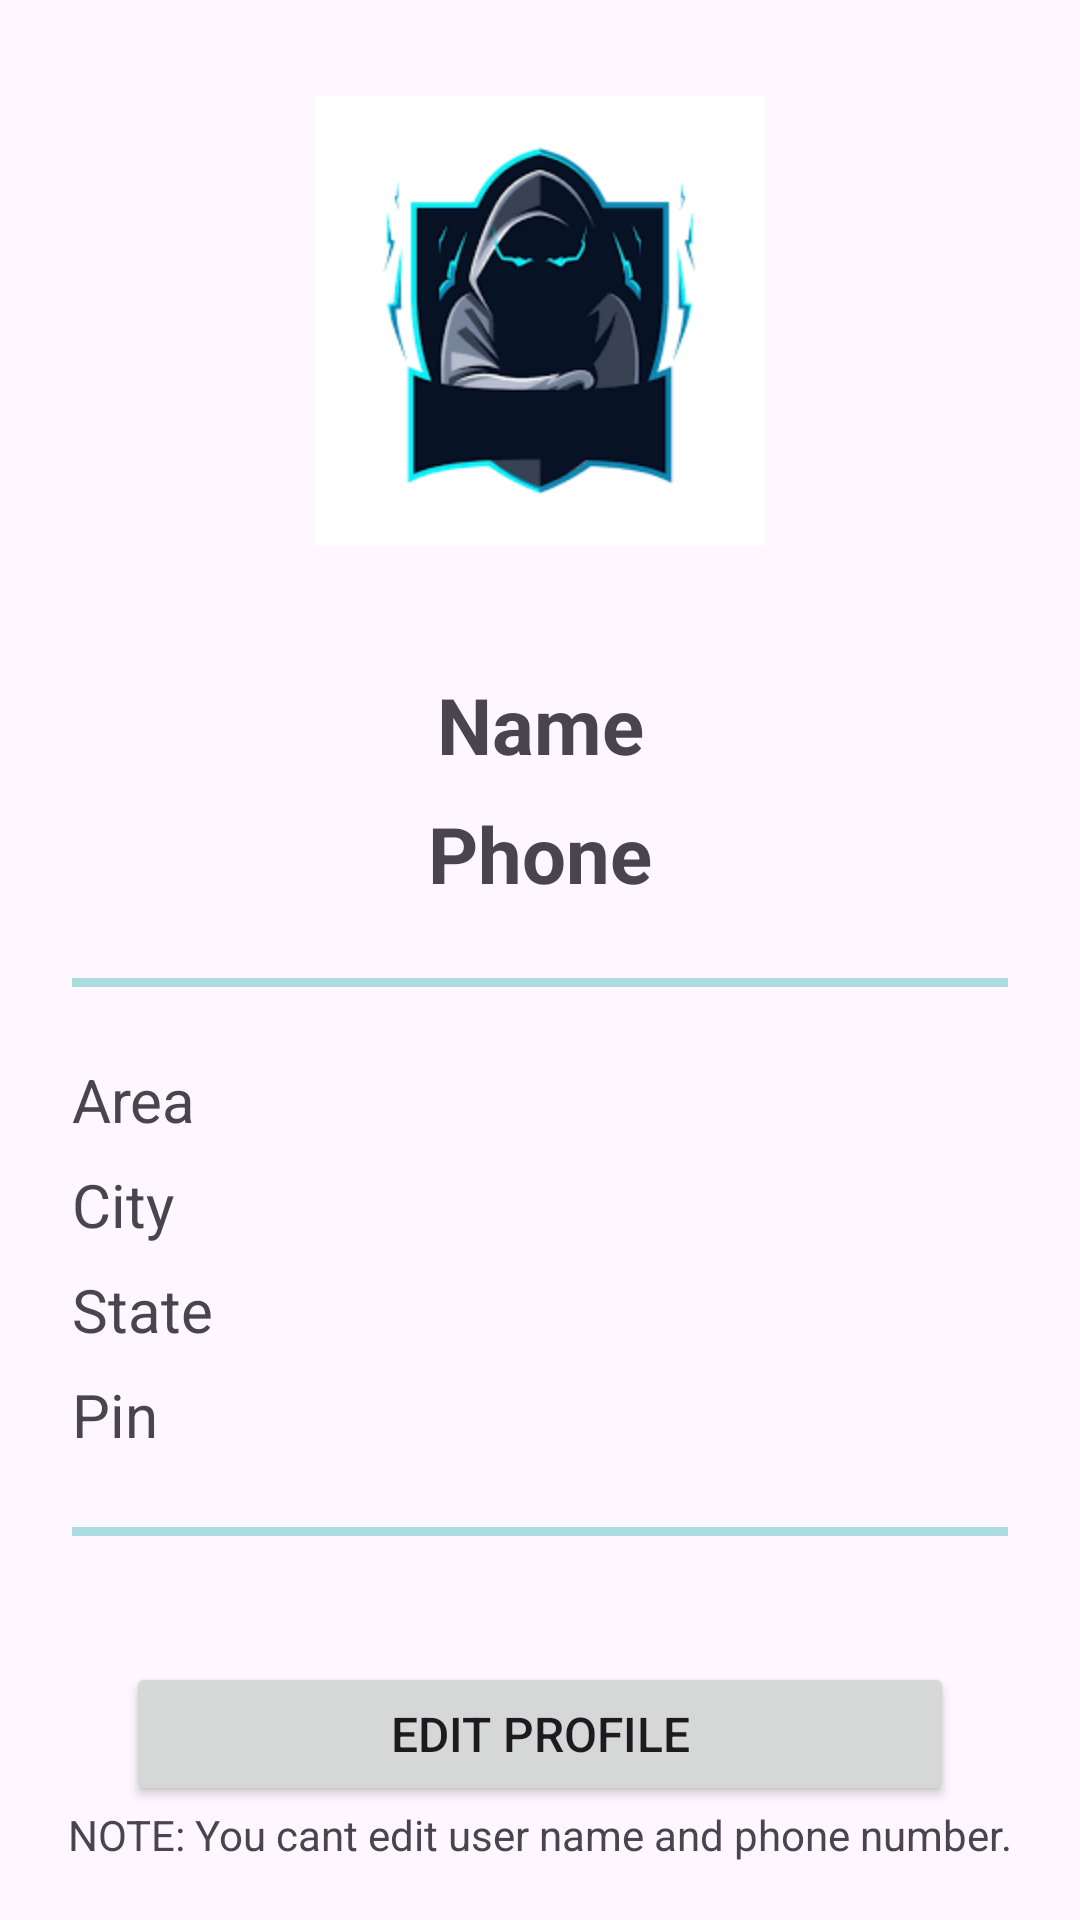

Screen size 1080 x 1920. Icon name, then its box in pixels as (x1, y1, x2, y2):
profilepic: (384, 147, 695, 494)
